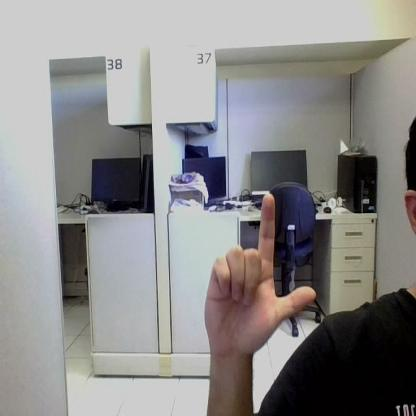L: (205, 193, 316, 351)
